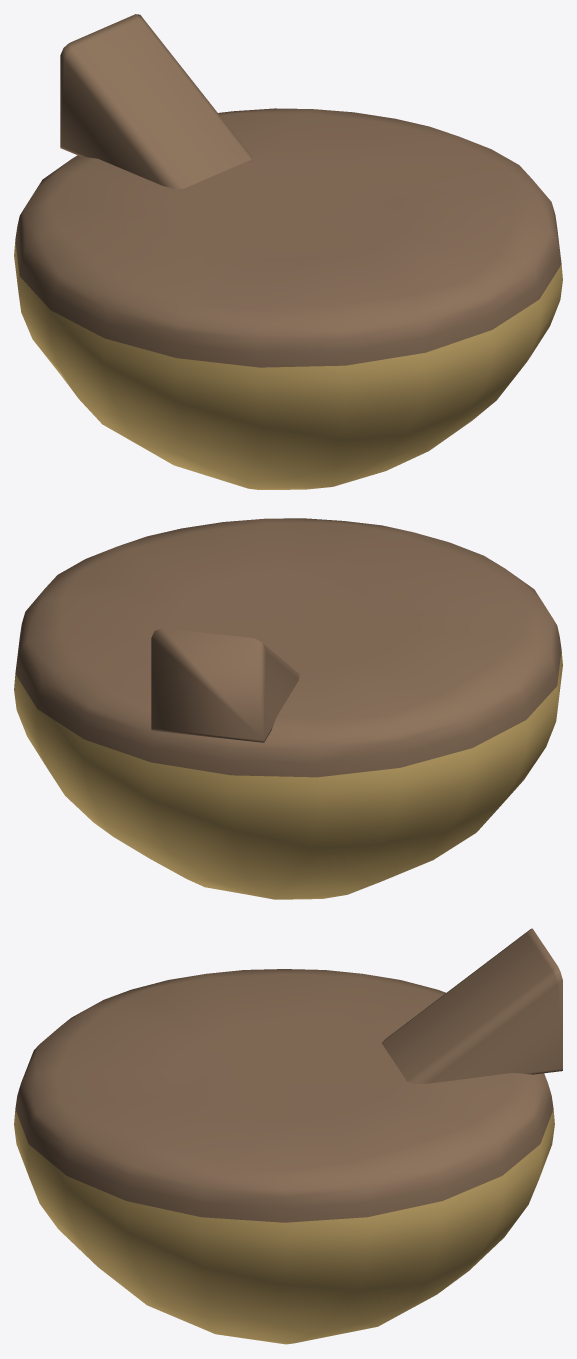
File: Cacao_Island_02.fbx
3 renders of one model, top to bottom at view 1: azimuth 30°, elevation 25°; view 2: azimuth 150°, elevation 25°; view 3: azimuth 270°, elevation 25°, orthographic. The views are drawn at different scales.
Parts seen in each view (by area): view 1: Cacao_Island_02; view 2: Cacao_Island_02; view 3: Cacao_Island_02.
Part boxes in pixels (<box>): Cacao_Island_02: <box>14,14,562,489</box>; Cacao_Island_02: <box>14,518,562,899</box>; Cacao_Island_02: <box>14,928,562,1344</box>.
Size of the model in its own units: 14.19 by 10.12 by 14.41.
